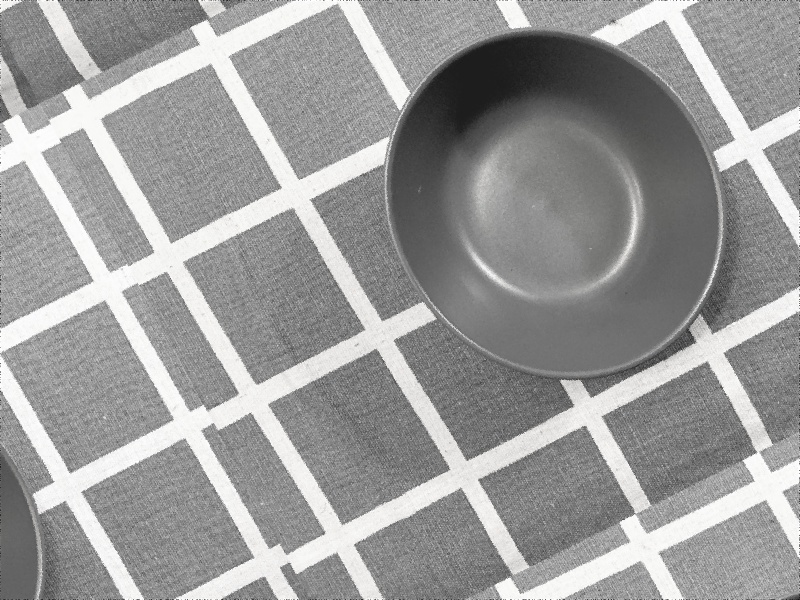bowl_big: (310, 0, 799, 453)
